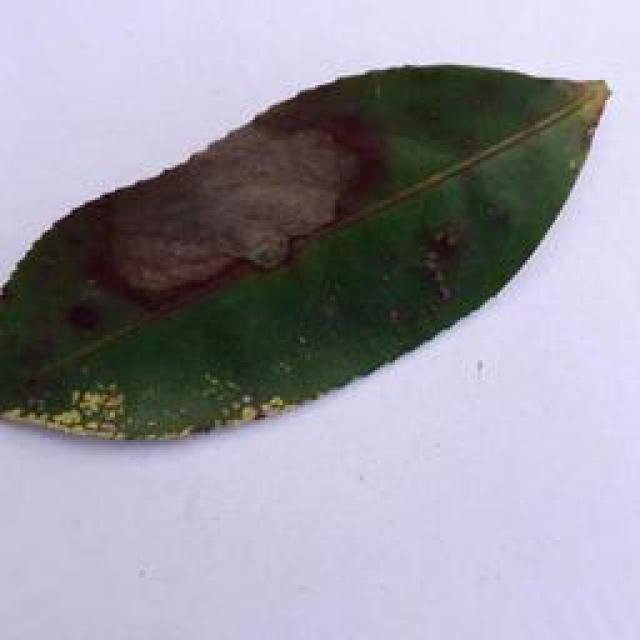Gray Blight: (6, 62, 611, 444)
